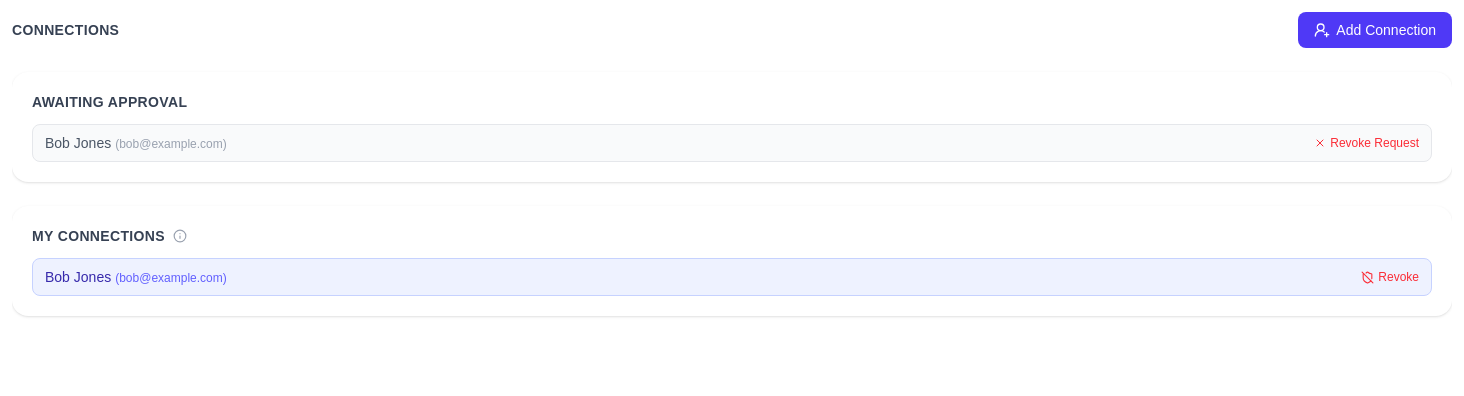
Test case: ConnectionsPanel — interactions › shows default error when cancelPinRequest fails with no error string
The width and height of the screenshot is (1464, 396).
Click the button with aria-label "revoke request to bob" at {"x": 1367, "y": 143}, box [1314, 135, 1419, 151]
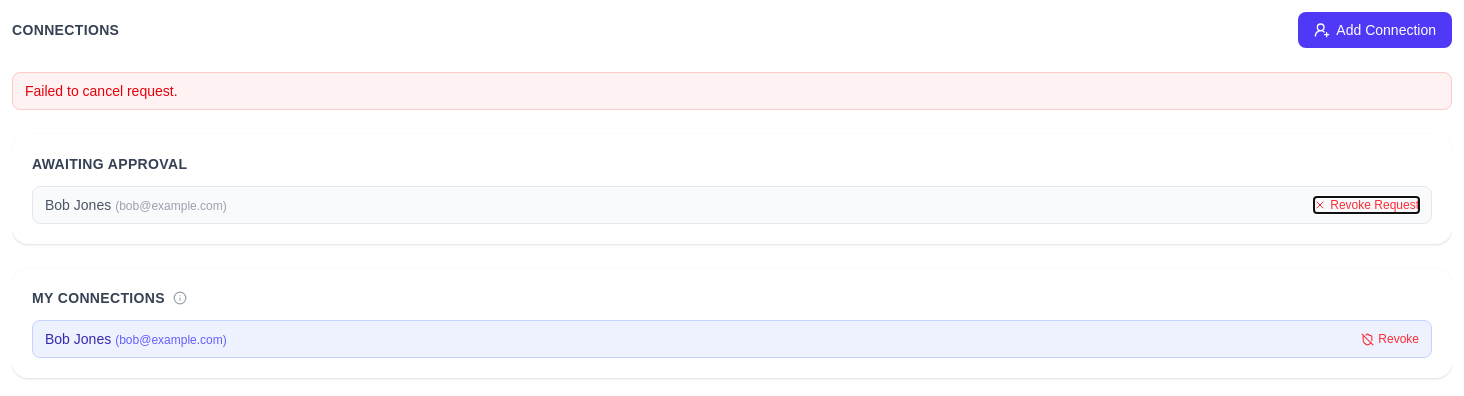
Result: the text "Failed to cancel request." is shown at [12, 72, 1452, 110]
